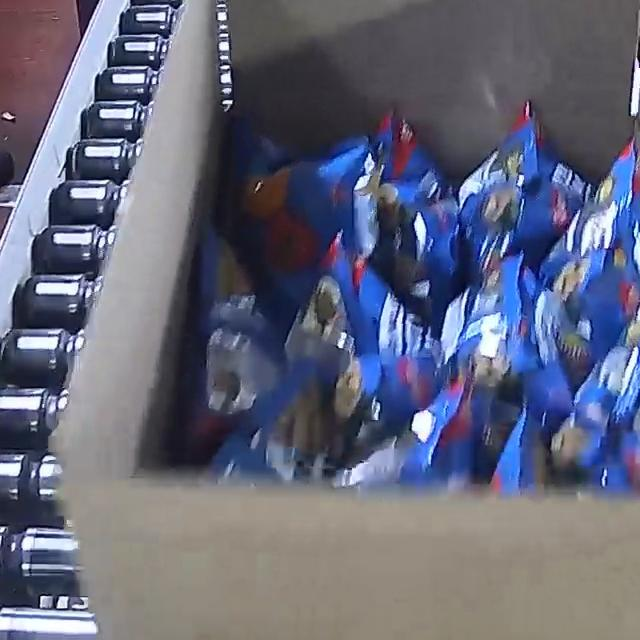paprika: (196, 97, 640, 502)
